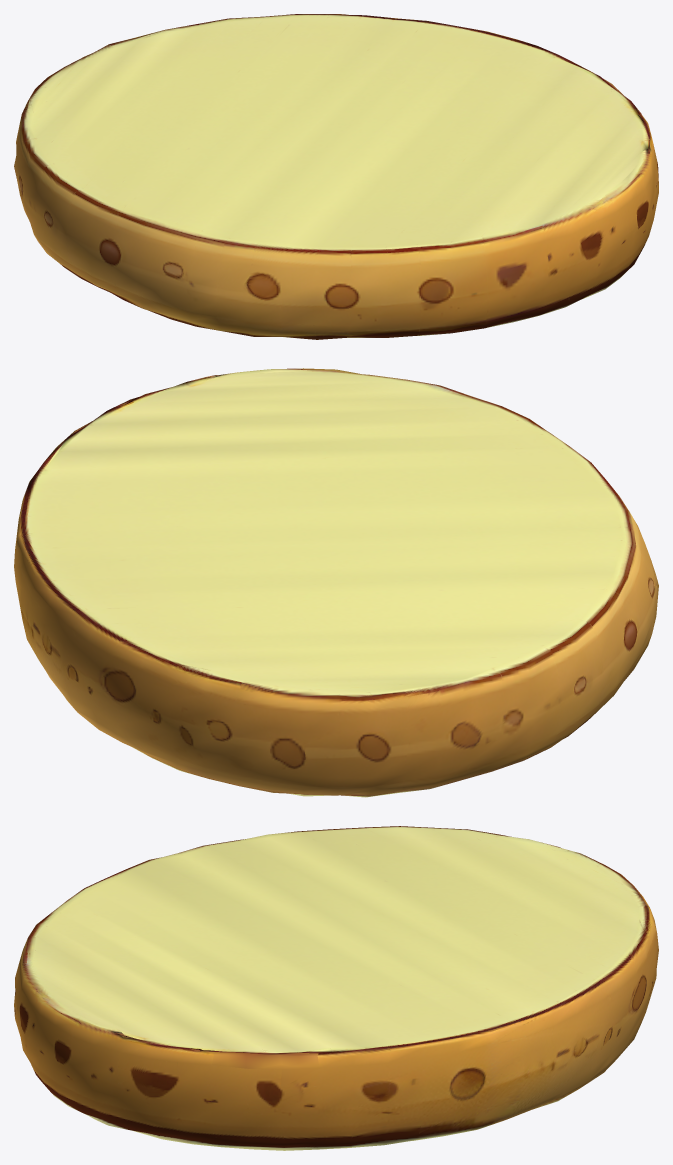
File: potato_slice.fbx
3 views of the same model, one above another, from view 1: azimuth 30°, elevation 25°; view 2: azimuth 150°, elevation 25°; view 3: azimuth 270°, elevation 25° (orthographic). The views are drawn at different scales.
Visible parts, largest first — view 1: Potato_slice; view 2: Potato_slice; view 3: Potato_slice.
Part boxes in pixels (x1=…): Potato_slice: x1=14, y1=14, x2=658, y2=339; Potato_slice: x1=14, y1=368, x2=658, y2=797; Potato_slice: x1=14, y1=826, x2=658, y2=1150.
Bounding box in the file's own units: 16.57 × 3.72 × 17.67.
Materials: 1 (1 with a texture image).
